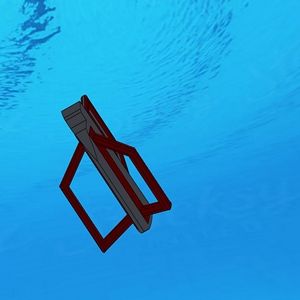submarine: (58, 95, 172, 252)
